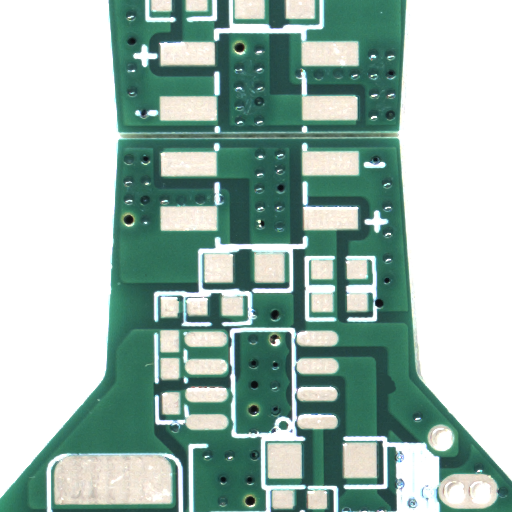Mouse_bite: (390, 386, 401, 407)
